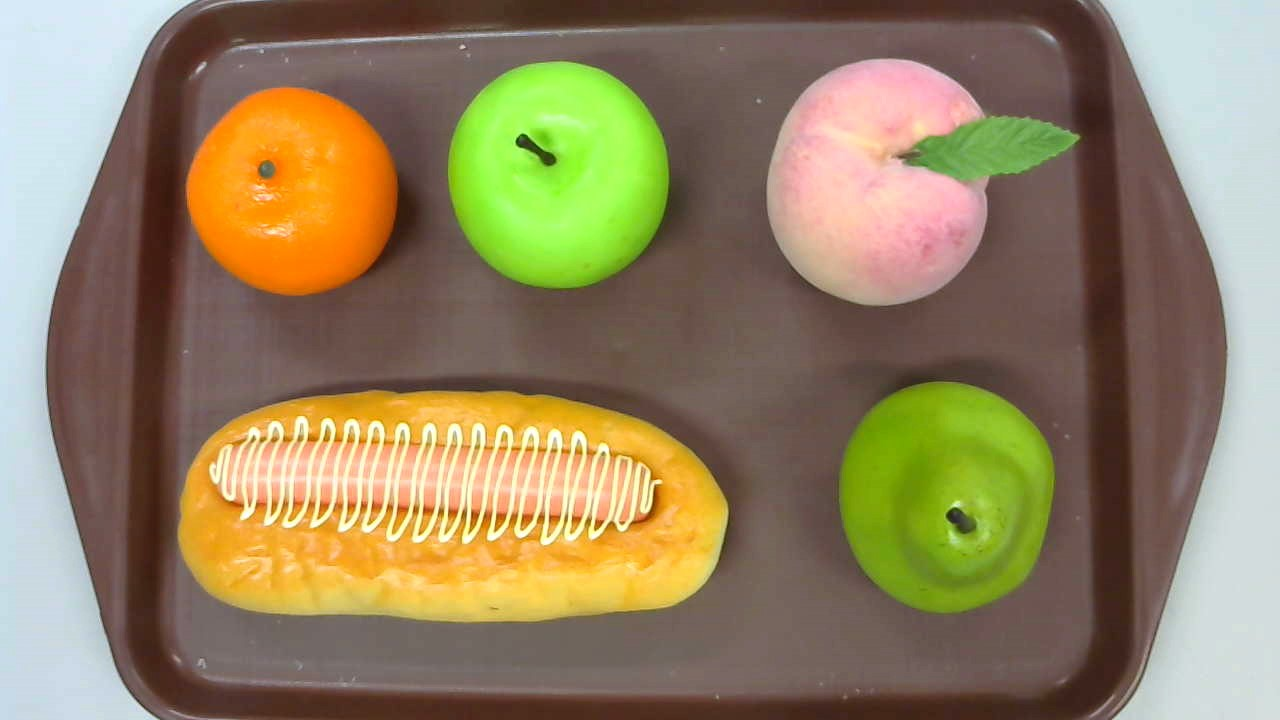green apple: (447, 61, 672, 291)
green pear: (838, 380, 1055, 613)
hot dog: (177, 389, 729, 624)
orange: (185, 86, 398, 297)
peaches: (766, 57, 1081, 306)
